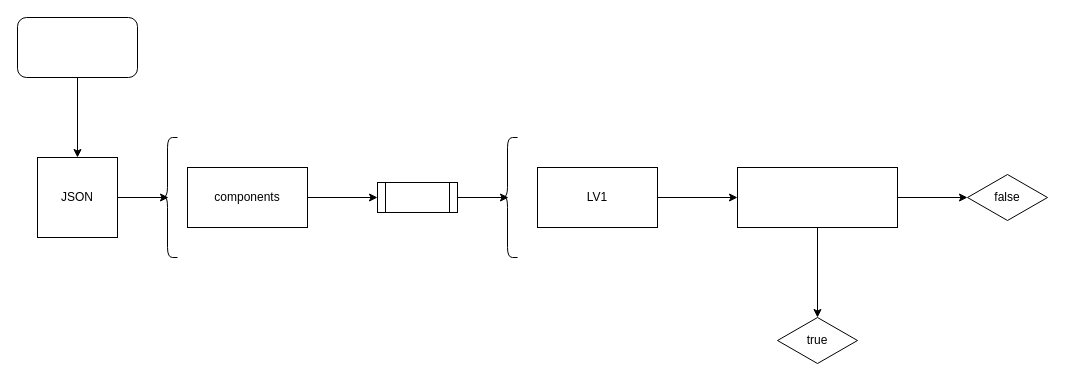
Image size: 1065x381. Some labels were removed from this diagram. The shapes that lost their labels are listed below. From the top down, each one's box as (x1, y1, x2, y2) in pixels, then its label:
(16, 16, 138, 78): FormIO
(376, 182, 458, 212): foreach
(736, 166, 898, 228): Check is "type" = "columns"
